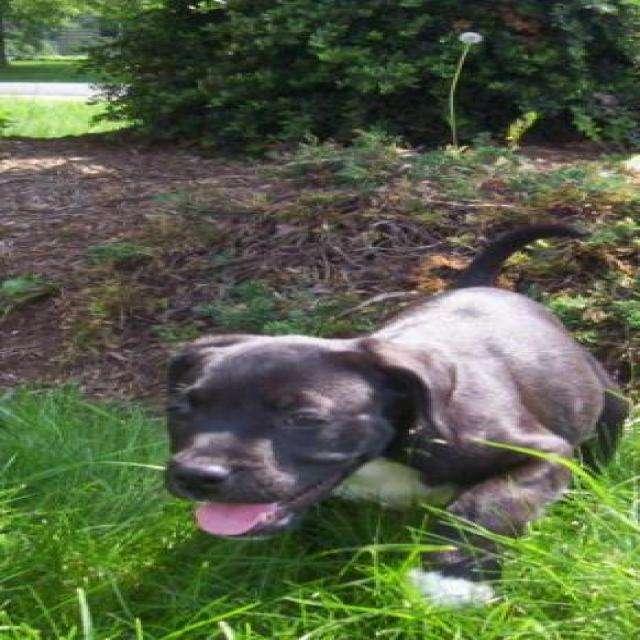Dogs: (158, 221, 632, 608)
